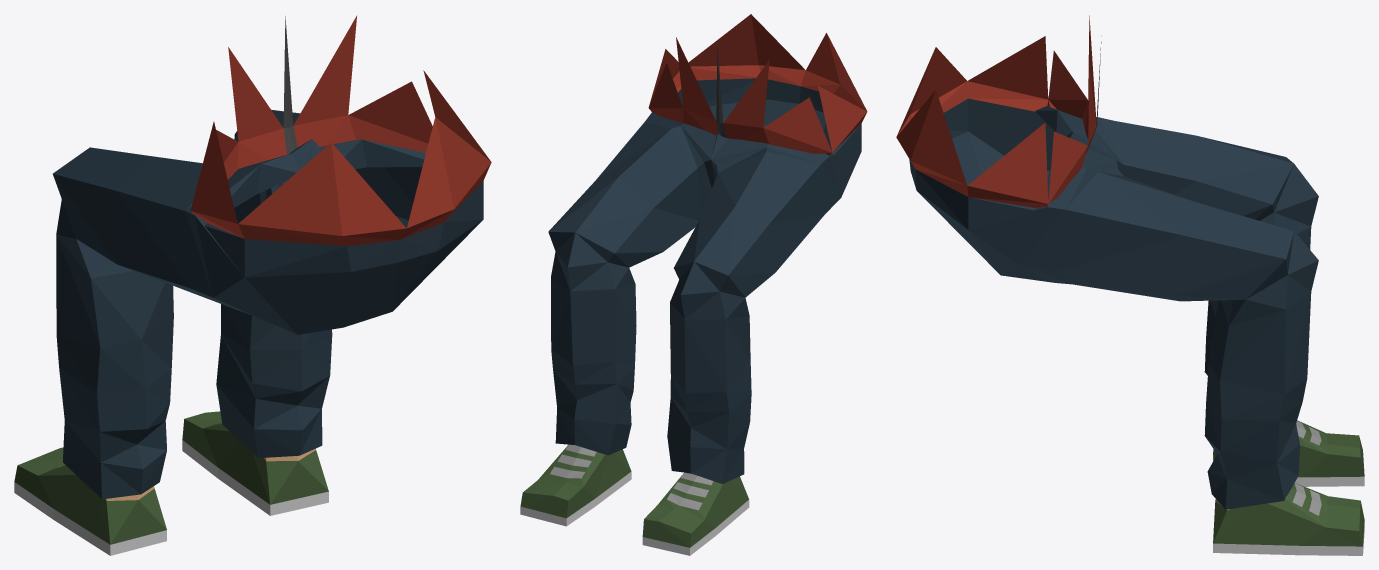
Rendered from Son_01_Legs_79_01_B.obj.
The picture shows the model from 3 angles, left to right: view 1: azimuth 30°, elevation 25°; view 2: azimuth 150°, elevation 25°; view 3: azimuth 270°, elevation 25°; orthographic projection. The views are drawn at different scales.
Parts seen in each view (by area): view 1: Son_01_Legs_79_01_B; view 2: Son_01_Legs_79_01_B; view 3: Son_01_Legs_79_01_B.
Part boxes in pixels (bbox=[...]): Son_01_Legs_79_01_B: bbox=[14, 16, 491, 555]; Son_01_Legs_79_01_B: bbox=[520, 14, 867, 555]; Son_01_Legs_79_01_B: bbox=[896, 15, 1364, 555].
Bounding box in the file's own units: 0.365 × 0.7748 × 0.6897.
1 material, 1 textured.
